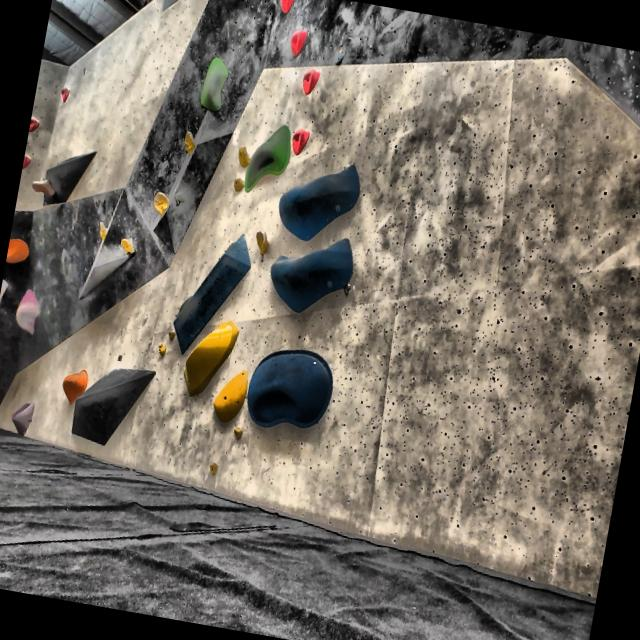Hold: (258, 224, 362, 332), (270, 153, 364, 250), (245, 340, 338, 438), (180, 306, 242, 408), (243, 118, 296, 202), (207, 364, 249, 431), (194, 50, 232, 117), (12, 285, 48, 339), (58, 365, 92, 404), (9, 398, 42, 436), (286, 22, 312, 62), (5, 230, 32, 268), (290, 124, 316, 158), (300, 65, 324, 98), (28, 176, 59, 201), (250, 228, 274, 260), (232, 142, 254, 168), (330, 48, 354, 71), (150, 190, 170, 217), (180, 130, 199, 155), (0, 277, 13, 313), (116, 233, 136, 254), (94, 218, 111, 242), (173, 186, 190, 208), (21, 146, 34, 174), (60, 85, 74, 108), (275, 0, 295, 16), (230, 174, 246, 193), (28, 119, 44, 137), (155, 340, 168, 357), (166, 328, 177, 344), (208, 462, 220, 475), (231, 429, 242, 442)
